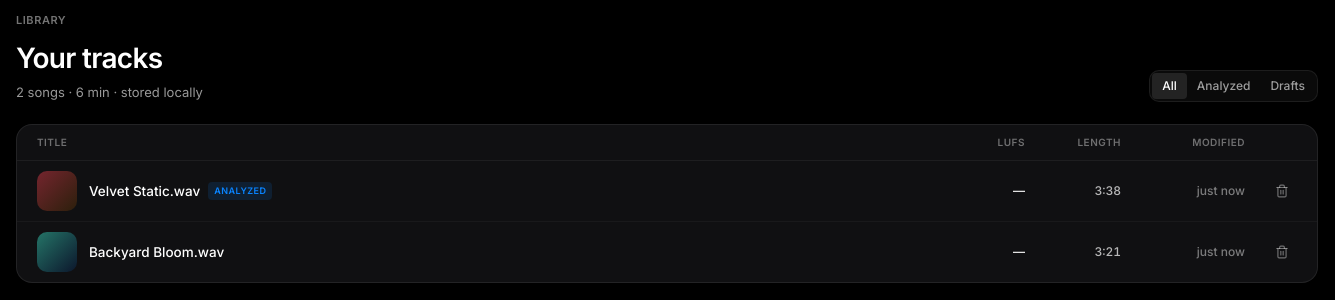
LibraryView › filters to analyzed entries when 'Analyzed' is selected
The width and height of the screenshot is (1335, 300).
Click the tab "Analyzed" at [1224, 86], box 1187,73 -> 1260,99
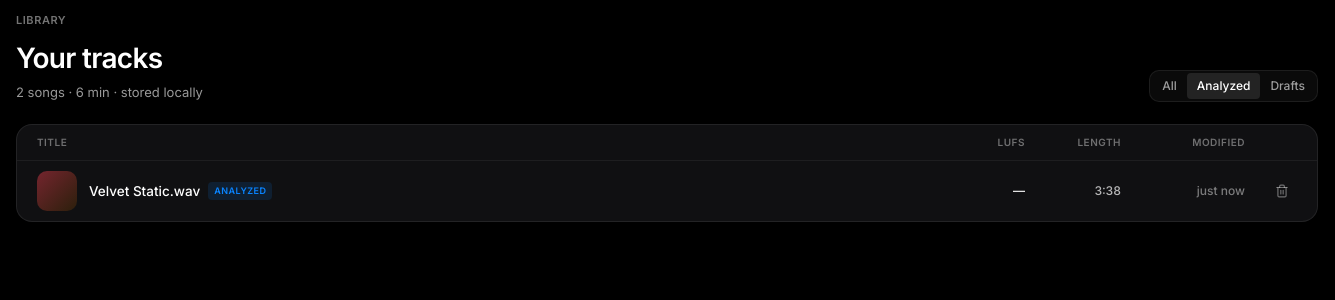
Check: the text "Velvet Static.wav" is shown, box 89,181 -> 200,201
Check: the number of list items with test id "library-row" is 1, box 1267,176 -> 1297,206
